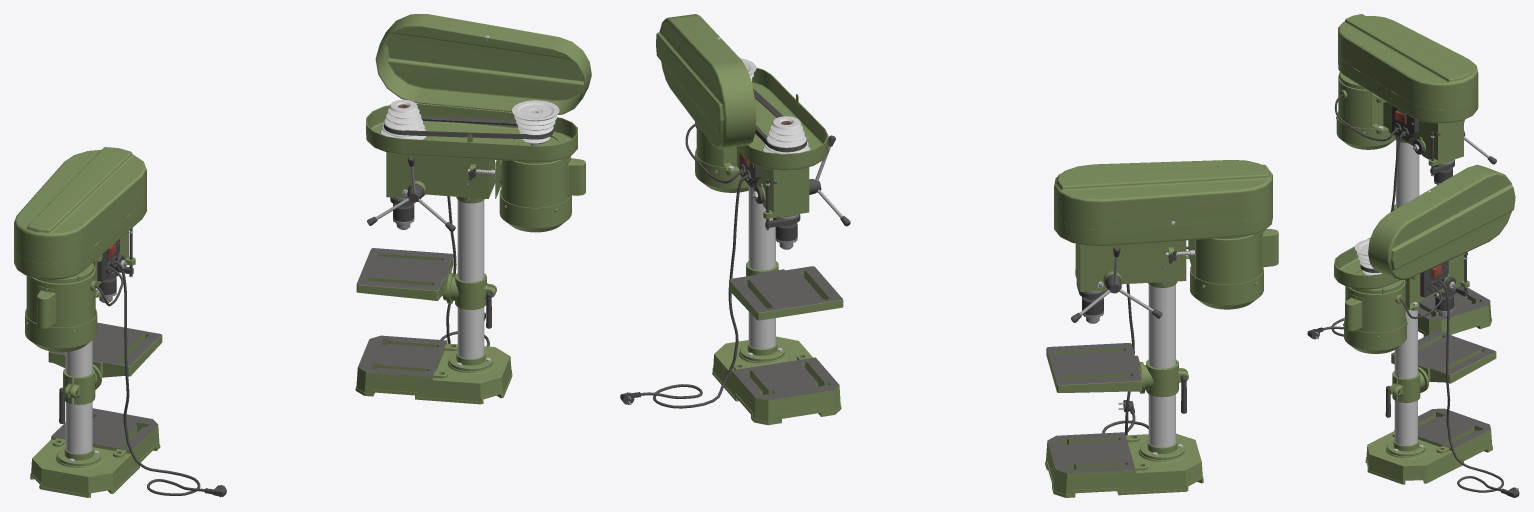
Rendered from drilling_machine.fbx.
The picture shows the model from 3 angles, left to right: view 1: azimuth 30°, elevation 25°; view 2: azimuth 150°, elevation 25°; view 3: azimuth 270°, elevation 25°; orthographic projection. The views are drawn at different scales.
Parts seen in each view (by area): view 1: polySurface94 (×2), polySurface31 (×2), polySurface72 (×2), polySurface17 (×2), pCylinder1 (×2), polySurface53 (×2), polySurface18, polySurface216 (×2), polySurface9 (×2), pPlane1 (×2), pCube18, pCylinder49 (+2 smaller); view 2: polySurface94 (×2), polySurface31 (×2), polySurface17 (×2), polySurface72 (×2), polySurface18 (×2), pCylinder1 (×2), polySurface53, polySurface216 (×2), polySurface74, pCylinder48, polySurface9; view 3: polySurface94 (×2), polySurface31 (×2), pCylinder1 (×2), polySurface72 (×2), polySurface53 (×2), polySurface18 (×2), polySurface17, polySurface216 (×2), polySurface74 (×2), polySurface84 (×2), polySurface9, pPlane1 (+5 smaller).
Part boxes in pixels (x1=…): polySurface94 (×2): x1=14, y1=14, x2=591, y2=263; polySurface31 (×2): x1=30, y1=335, x2=512, y2=497; polySurface72 (×2): x1=14, y1=103, x2=577, y2=279; polySurface17 (×2): x1=48, y1=248, x2=453, y2=377; pCylinder1 (×2): x1=65, y1=200, x2=484, y2=453; polySurface53 (×2): x1=26, y1=156, x2=570, y2=327; polySurface18: x1=386, y1=152, x2=495, y2=198; polySurface216 (×2): x1=25, y1=189, x2=571, y2=352; polySurface9 (×2): x1=63, y1=273, x2=496, y2=404; pPlane1 (×2): x1=37, y1=156, x2=585, y2=329; pCube18: x1=383, y1=115, x2=553, y2=139; pCylinder49: x1=512, y1=100, x2=559, y2=144; polySurface94 (×2): x1=656, y1=14, x2=1272, y2=229; polySurface31 (×2): x1=712, y1=336, x2=1203, y2=497; polySurface17 (×2): x1=729, y1=266, x2=1141, y2=392; polySurface72 (×2): x1=736, y1=67, x2=1272, y2=246; polySurface18 (×2): x1=726, y1=149, x2=1186, y2=291; pCylinder1 (×2): x1=748, y1=186, x2=1175, y2=447; polySurface53: x1=1191, y1=231, x2=1262, y2=284; polySurface216 (×2): x1=695, y1=148, x2=1263, y2=309; polySurface74: x1=640, y1=170, x2=751, y2=408; pCylinder48: x1=762, y1=116, x2=810, y2=153; polySurface9: x1=1146, y1=359, x2=1188, y2=397; polySurface94 (×2): x1=1338, y1=14, x2=1515, y2=280; polySurface31 (×2): x1=1365, y1=286, x2=1492, y2=484; pCylinder1 (×2): x1=1394, y1=140, x2=1419, y2=445; polySurface72 (×2): x1=1334, y1=52, x2=1478, y2=289; polySurface53 (×2): x1=1338, y1=77, x2=1405, y2=332; polySurface18 (×2): x1=1376, y1=98, x2=1469, y2=310; polySurface17: x1=1391, y1=330, x2=1496, y2=383; polySurface216 (×2): x1=1336, y1=112, x2=1406, y2=353; polySurface74 (×2): x1=1323, y1=127, x2=1503, y2=492; polySurface84 (×2): x1=1392, y1=105, x2=1448, y2=297; polySurface9: x1=1388, y1=371, x2=1420, y2=402; pPlane1: x1=1345, y1=293, x2=1363, y2=331.
Size of the model in its own units: 128 by 70.39 by 46.04.
